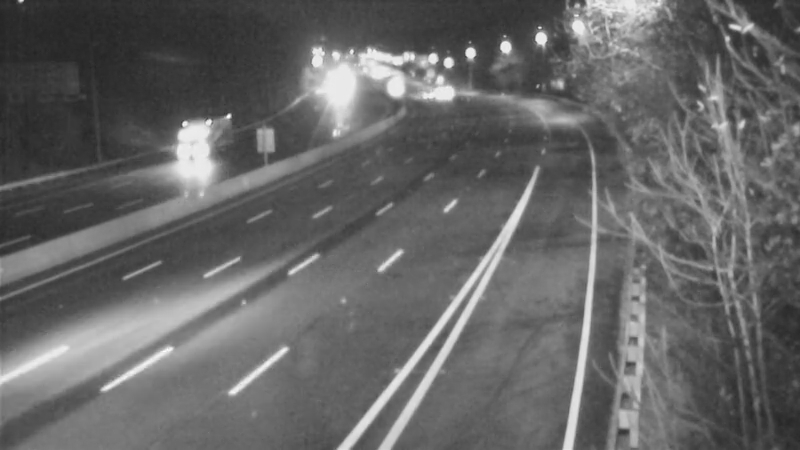vehicle: (153, 118, 233, 198), (418, 69, 468, 119), (395, 71, 445, 121)
